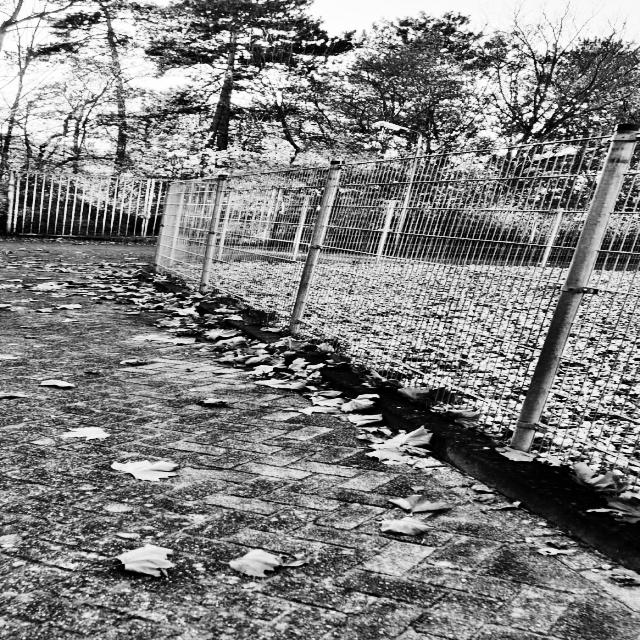fences: (160, 154, 432, 348), (446, 139, 629, 425), (22, 176, 137, 240)
